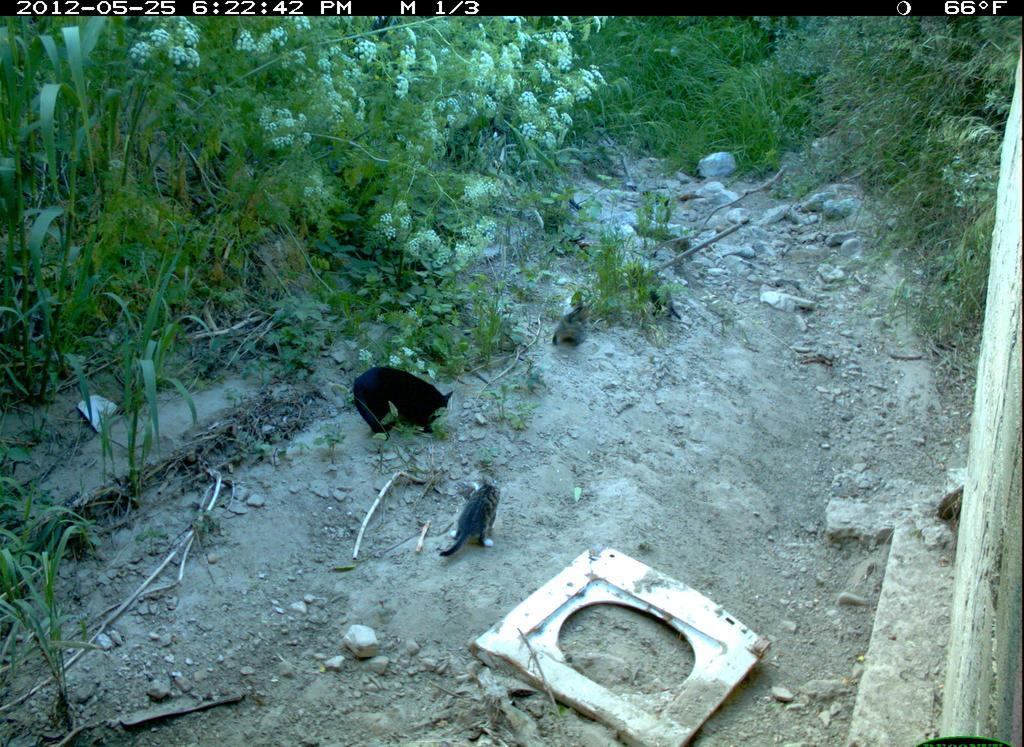cat: (348, 363, 460, 444), (437, 473, 510, 561), (628, 258, 681, 319), (550, 286, 595, 350)
